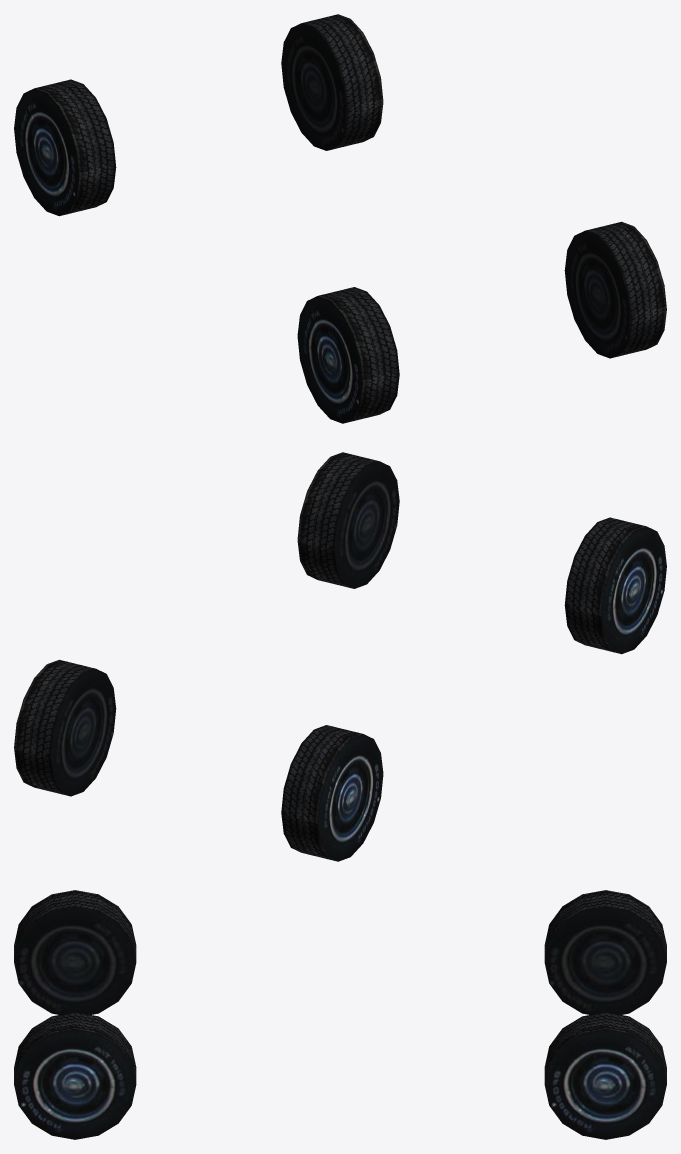
File: wheels.DAE
3 views of the same model, one above another, from view 1: azimuth 30°, elevation 25°; view 2: azimuth 150°, elevation 25°; view 3: azimuth 270°, elevation 25° (orthographic). The views are drawn at different scales.
Parts seen in each view (by area): view 1: Wheel_Front-L; view 2: Wheel_Front-L; view 3: Wheel_Front-L.
Part boxes in pixels (bbox=[...]): Wheel_Front-L: bbox=[14, 14, 666, 423]; Wheel_Front-L: bbox=[14, 452, 666, 861]; Wheel_Front-L: bbox=[14, 890, 666, 1139].
Bounding box in the file's own units: 55.23 × 110 × 20.58.
1 material, 1 textured.
